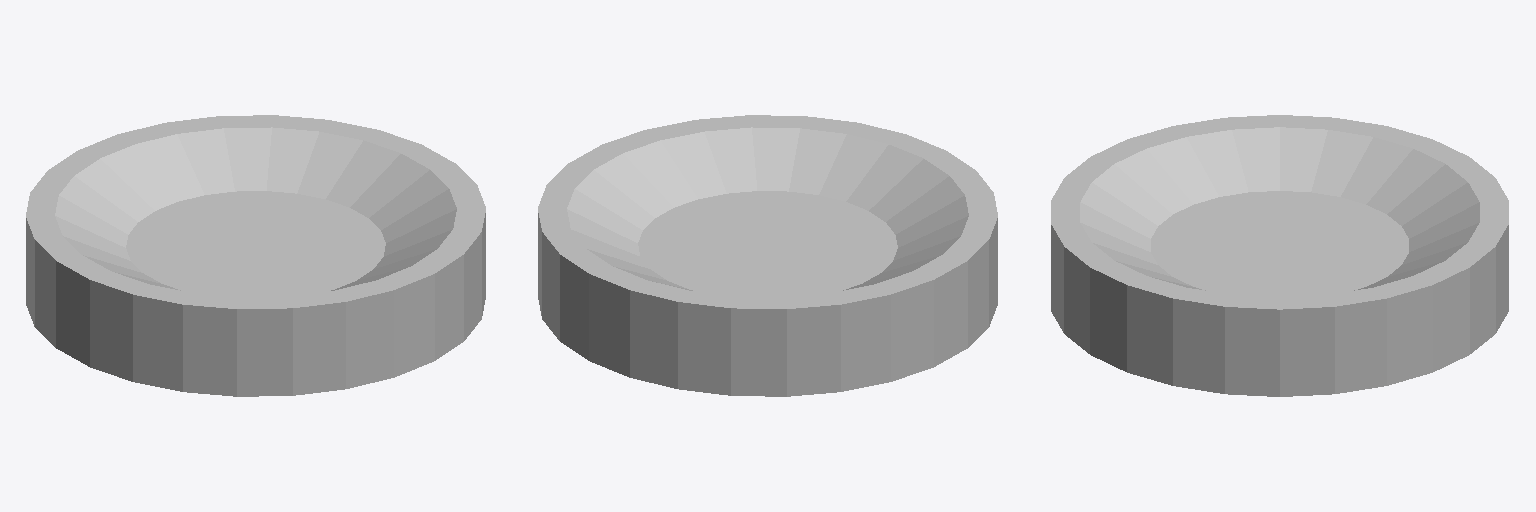
File: roundBase.obj
3 renders of one model, left to right at view 1: azimuth 30°, elevation 25°; view 2: azimuth 150°, elevation 25°; view 3: azimuth 270°, elevation 25°, orthographic.
Visible parts, largest first — view 1: pCylinder44; view 2: pCylinder44; view 3: pCylinder44.
Part boxes in pixels (x1,y1,x2,y2): pCylinder44: (26, 115, 485, 396); pCylinder44: (538, 115, 997, 396); pCylinder44: (1051, 115, 1508, 396).
Size of the model in its own units: 0.9071 by 0.19 by 0.9005.